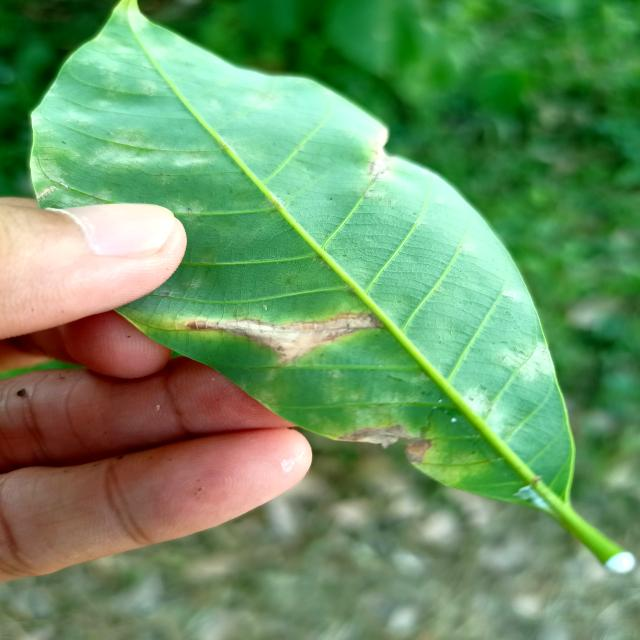Leaf-Blight: (186, 313, 380, 361), (340, 424, 433, 465)
